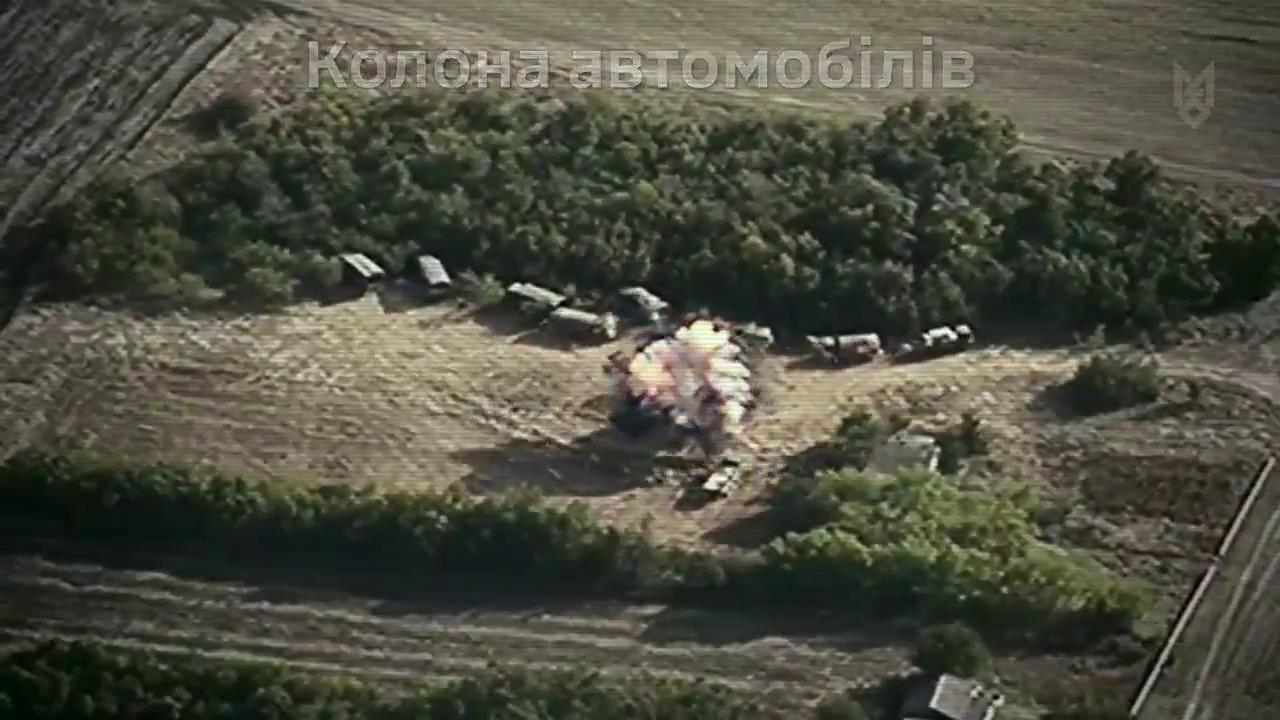tank: (807, 326, 883, 373), (548, 300, 617, 351), (907, 320, 978, 362), (503, 274, 566, 320), (336, 245, 385, 297), (617, 282, 670, 330), (701, 452, 748, 506), (414, 251, 453, 301), (735, 318, 777, 350)
